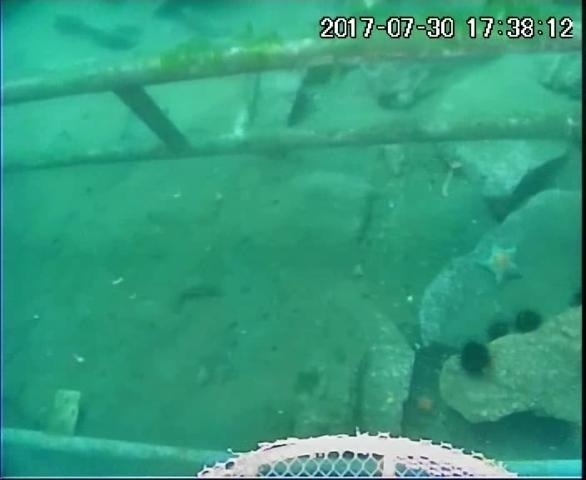echinus: (529, 411, 577, 453), (454, 338, 496, 383), (508, 306, 547, 340), (482, 315, 515, 346), (565, 279, 586, 317)
starfish: (472, 237, 527, 289)
